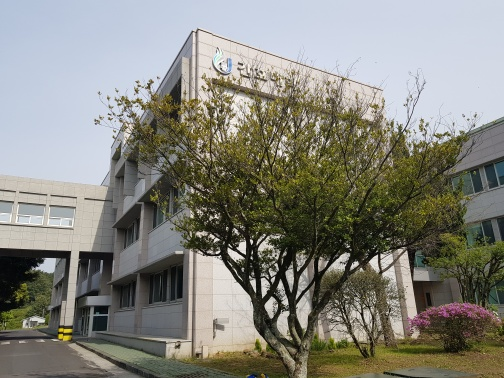College of Nursing: (49, 55, 496, 311)
